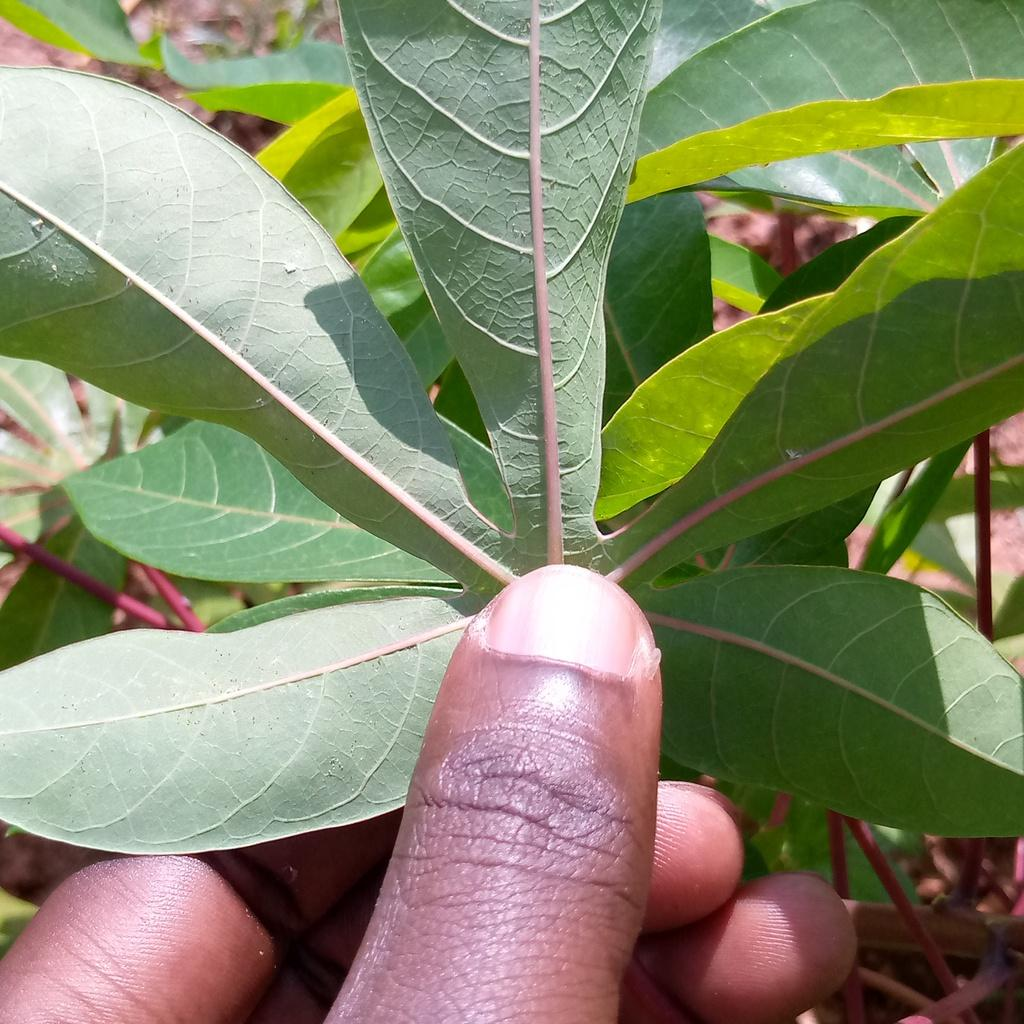adult: (785, 449, 802, 459), (284, 263, 297, 274), (30, 219, 44, 228), (51, 264, 58, 272)
